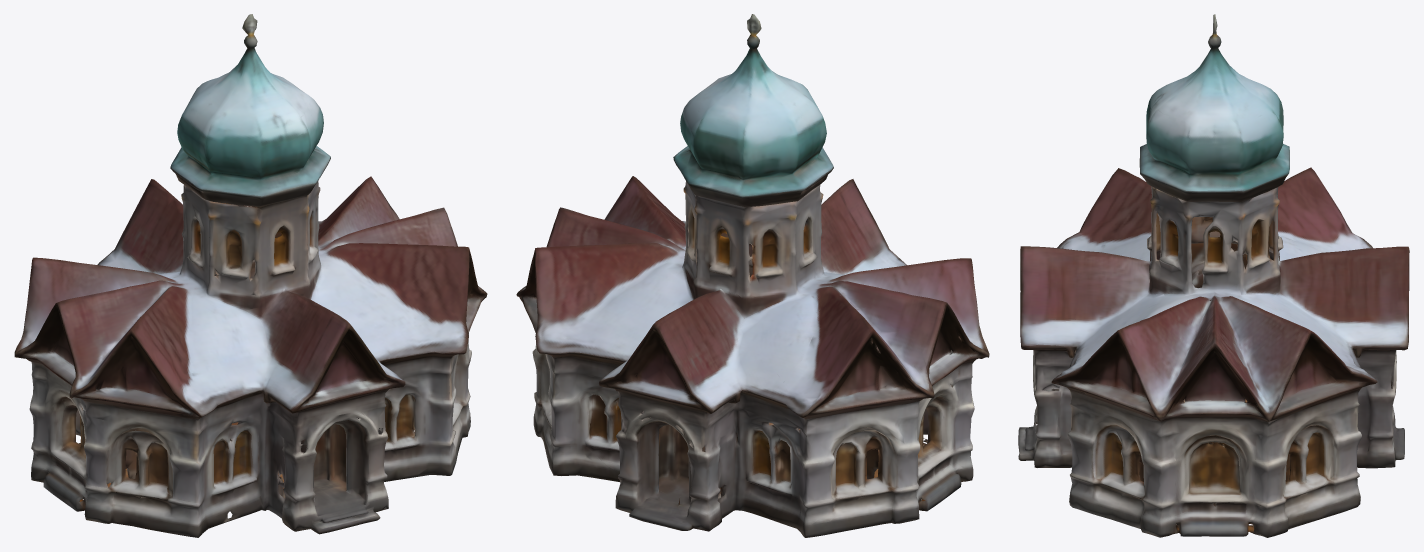
File: winter-pavilion.glb
The picture shows the model from 3 angles, left to right: view 1: azimuth 30°, elevation 25°; view 2: azimuth 150°, elevation 25°; view 3: azimuth 270°, elevation 25°; orthographic projection.
Visible parts, largest first — view 1: Russian winter pavilion; view 2: Russian winter pavilion; view 3: Russian winter pavilion.
Part boxes in pixels (x1,y1,x2,y2): Russian winter pavilion: (14,14,487,537); Russian winter pavilion: (516,14,989,537); Russian winter pavilion: (1018,14,1409,537).
Size of the model in its own units: 0.5464 by 0.55 by 0.4508.
Materials: 1 (1 with a texture image).
